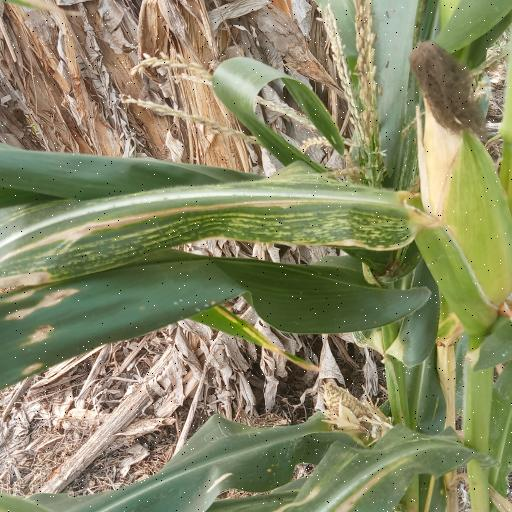Corn_Streak: (0, 178, 426, 293)
